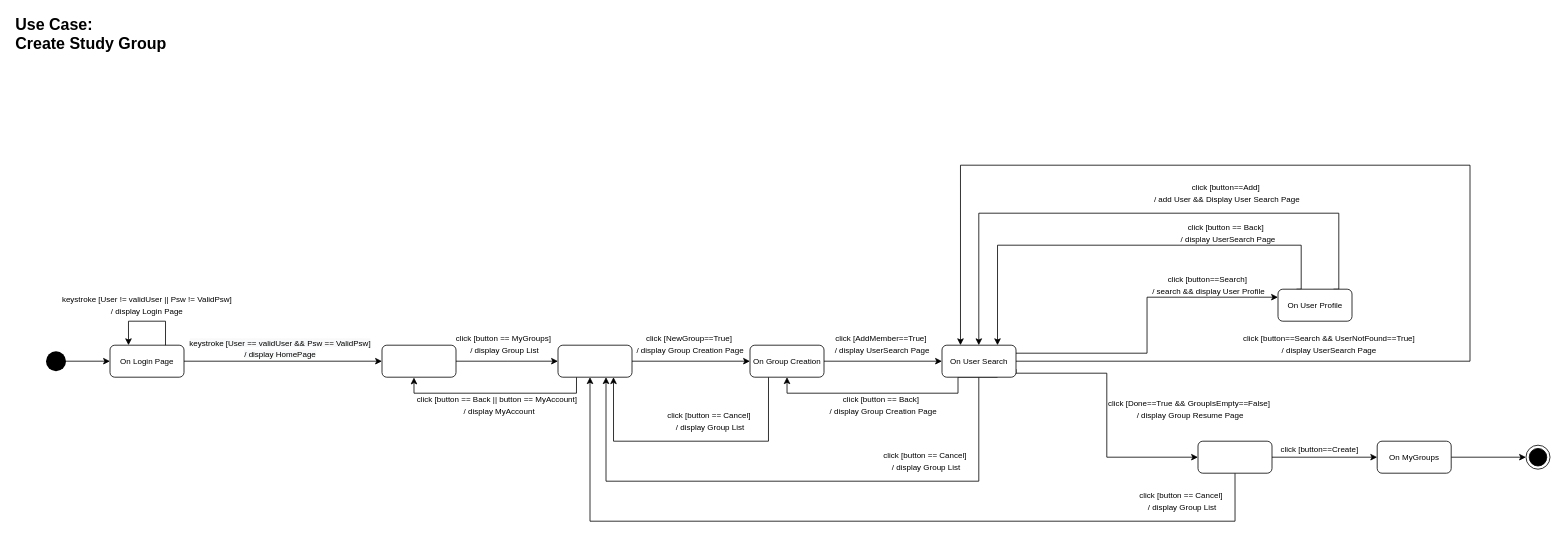
This 1564x542 diagram has some shape labels left out. The shapes that lost their labels are listed below. From the top down, each one's centre as x and y in pixels, then its label:
At (418,360): "On MyAccount".
At (594,360): "On Group List".
At (1234,456): "On Group Resume".
